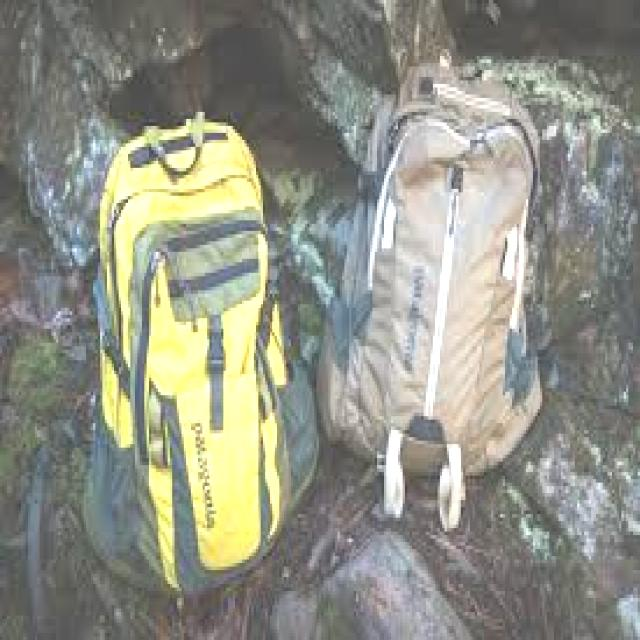backpack: (80, 110, 322, 603), (316, 68, 548, 508)
